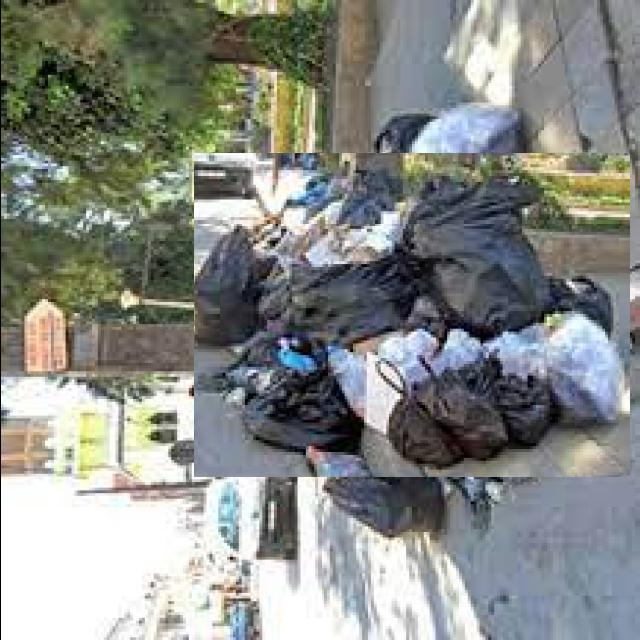garbage: (222, 125, 602, 505)
